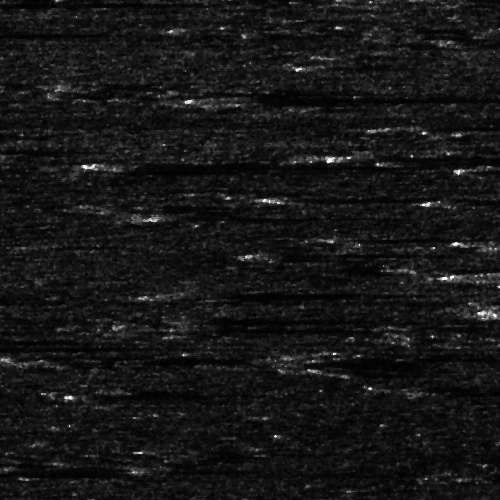object: (329, 118, 474, 131), (215, 193, 350, 204), (246, 149, 361, 160), (181, 91, 274, 102), (0, 351, 89, 362), (45, 388, 128, 399), (289, 234, 372, 243), (420, 271, 500, 280), (72, 157, 135, 168), (234, 249, 287, 260), (452, 235, 500, 246), (120, 465, 173, 474), (278, 61, 361, 66), (0, 17, 14, 46), (136, 286, 147, 297)
shadow: (104, 157, 414, 168), (0, 0, 498, 6), (227, 91, 473, 102), (283, 193, 500, 204), (261, 249, 459, 260), (304, 149, 499, 160), (142, 286, 333, 297), (17, 351, 202, 362), (0, 17, 65, 46), (87, 388, 212, 399), (402, 118, 500, 131), (331, 234, 467, 243), (147, 465, 275, 474), (0, 331, 66, 348), (0, 131, 76, 136), (320, 61, 382, 66), (0, 145, 61, 150), (0, 411, 52, 416)
